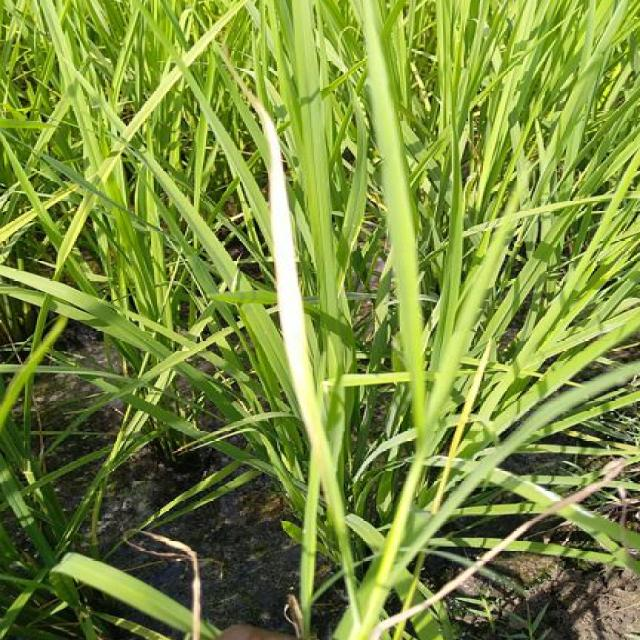Leaf Blight: (247, 98, 348, 559)
